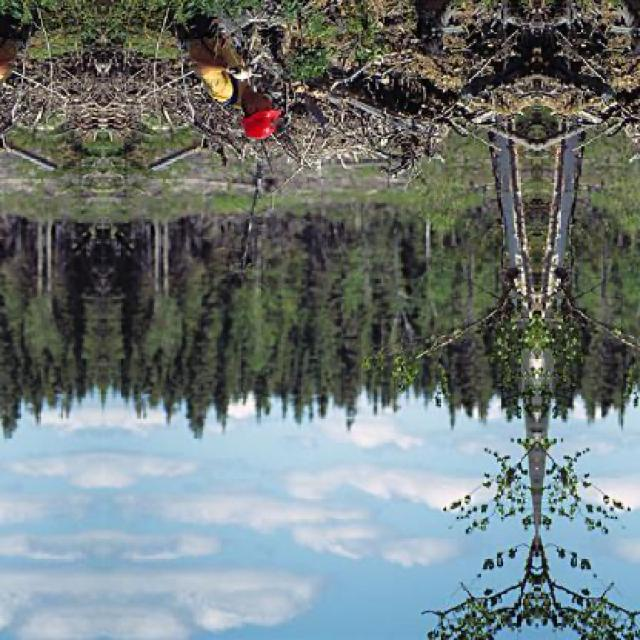con casco: (216, 82, 280, 155)
